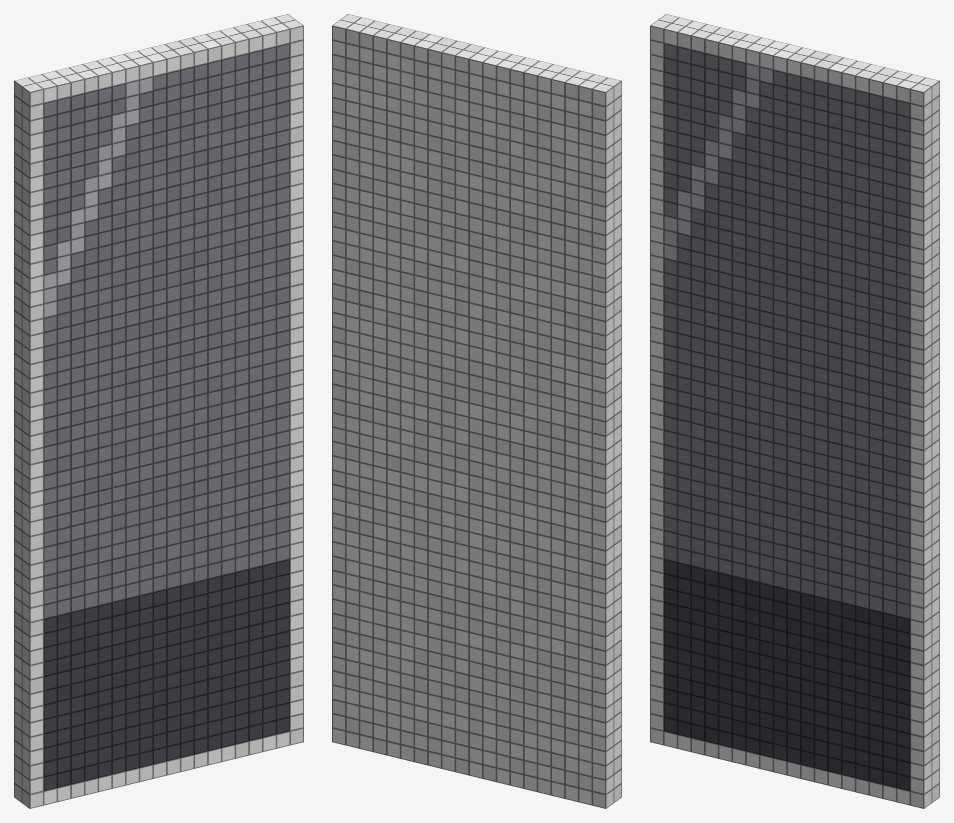
Rendered from mirror_wall_panel.glb.
3 views of the same model, side by side, from view 1: azimuth 30°, elevation 25°; view 2: azimuth 150°, elevation 25°; view 3: azimuth 330°, elevation 25° (orthographic).
Visible parts, largest first — view 1: mirror_wall_panel; view 2: mirror_wall_panel; view 3: mirror_wall_panel.
Boxes of the visible parts, x1,y1,x2,y2 form: mirror_wall_panel: [14, 14, 303, 808]; mirror_wall_panel: [332, 14, 621, 808]; mirror_wall_panel: [650, 14, 939, 808].
Size of the model in its own units: 1 by 2.5 by 0.1.
Materials: 4 (4 with a texture image).
